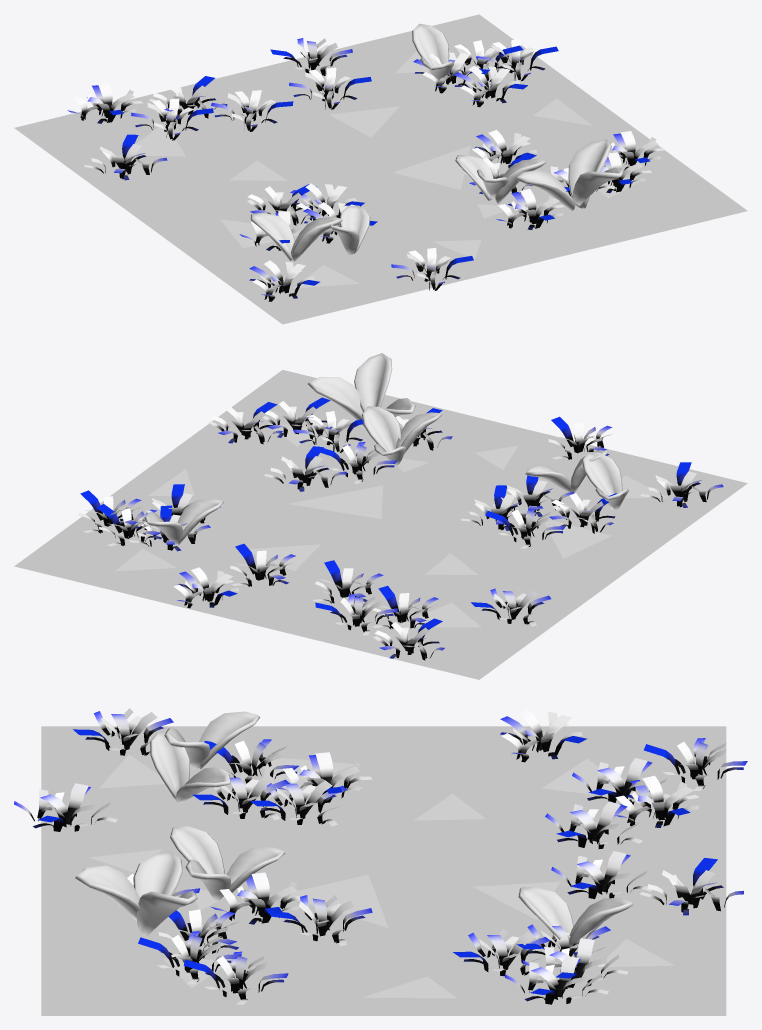
File: TILE_FIELDS_BUSHY.fbx
3 views of the same model, one above another, from view 1: azimuth 30°, elevation 25°; view 2: azimuth 150°, elevation 25°; view 3: azimuth 270°, elevation 25° (orthographic). The views are drawn at different scales.
Parts seen in each view (by area): view 1: FLOOR.005, !Env_Grass_Square_SingleSided.001, CHAR_VEGGY_HEAD.005, CHAR_VEGGY_HEAD.001, CHAR_VEGGY_HEAD.002, CHAR_VEGGY_HEAD.003, CHAR_VEGGY_HEAD.004; view 2: FLOOR.005, !Env_Grass_Square_SingleSided.001, CHAR_VEGGY_HEAD.005, CHAR_VEGGY_HEAD.002, CHAR_VEGGY_HEAD.001, CHAR_VEGGY_HEAD.003, CHAR_VEGGY_HEAD.004; view 3: FLOOR.005, !Env_Grass_Square_SingleSided.001, CHAR_VEGGY_HEAD.005, CHAR_VEGGY_HEAD.002, CHAR_VEGGY_HEAD.003, CHAR_VEGGY_HEAD.004, CHAR_VEGGY_HEAD.001.
Boxes of the visible parts, x1=… form: FLOOR.005: x1=14, y1=14, x2=747, y2=324; !Env_Grass_Square_SingleSided.001: x1=67, y1=38, x2=665, y2=301; CHAR_VEGGY_HEAD.005: x1=515, y1=139, x2=623, y2=211; CHAR_VEGGY_HEAD.001: x1=250, y1=212, x2=342, y2=261; CHAR_VEGGY_HEAD.002: x1=455, y1=155, x2=545, y2=203; CHAR_VEGGY_HEAD.003: x1=412, y1=23, x2=453, y2=81; CHAR_VEGGY_HEAD.004: x1=330, y1=205, x2=370, y2=255; FLOOR.005: x1=14, y1=370, x2=747, y2=679; !Env_Grass_Square_SingleSided.001: x1=78, y1=397, x2=723, y2=660; CHAR_VEGGY_HEAD.005: x1=307, y1=353, x2=415, y2=428; CHAR_VEGGY_HEAD.002: x1=361, y1=406, x2=441, y2=466; CHAR_VEGGY_HEAD.001: x1=581, y1=452, x2=628, y2=510; CHAR_VEGGY_HEAD.003: x1=144, y1=498, x2=223, y2=545; CHAR_VEGGY_HEAD.004: x1=525, y1=450, x2=607, y2=492; FLOOR.005: x1=41, y1=726, x2=726, y2=1015; !Env_Grass_Square_SingleSided.001: x1=14, y1=708, x2=747, y2=1004; CHAR_VEGGY_HEAD.005: x1=75, y1=851, x2=197, y2=936; CHAR_VEGGY_HEAD.002: x1=170, y1=826, x2=285, y2=901; CHAR_VEGGY_HEAD.003: x1=518, y1=886, x2=633, y2=947; CHAR_VEGGY_HEAD.004: x1=150, y1=732, x2=230, y2=803; CHAR_VEGGY_HEAD.001: x1=164, y1=711, x2=259, y2=769.
Bounding box in the file's own units: 202 × 34.03 × 214.
